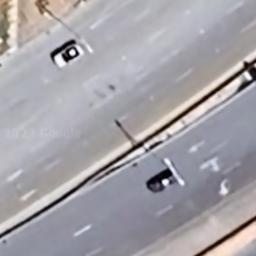SUV: (49, 40, 85, 69)
sedan: (145, 166, 181, 194)
